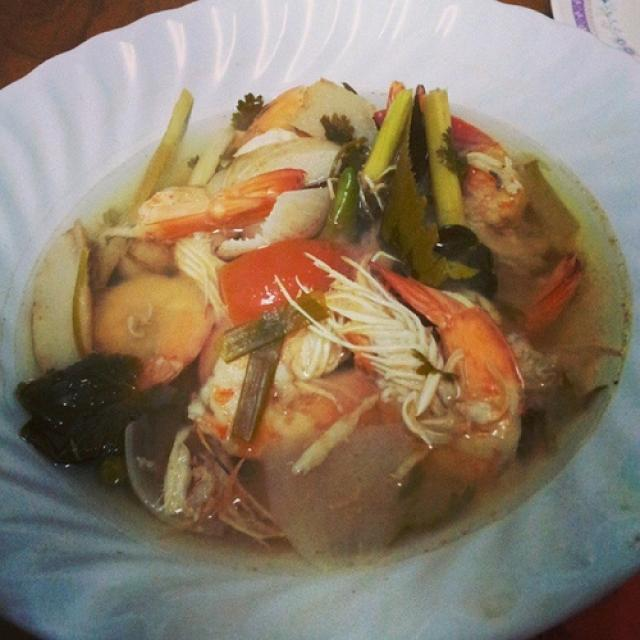汤锅炖物: (19, 67, 595, 572)
